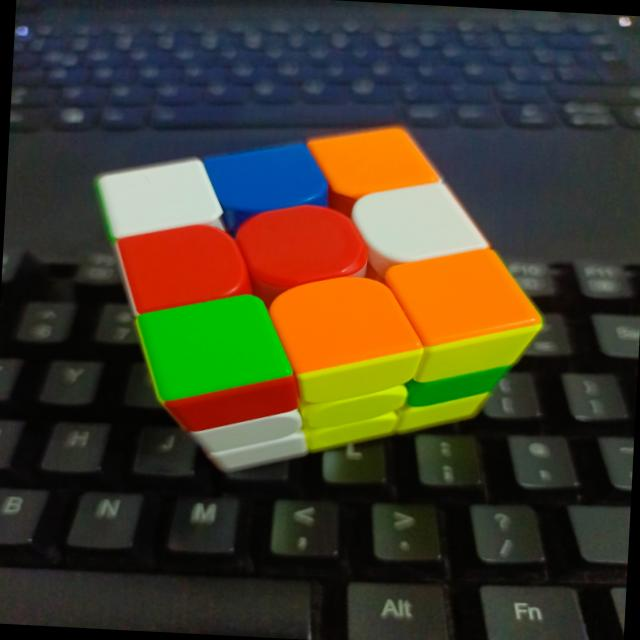rubik: (77, 108, 555, 489)
